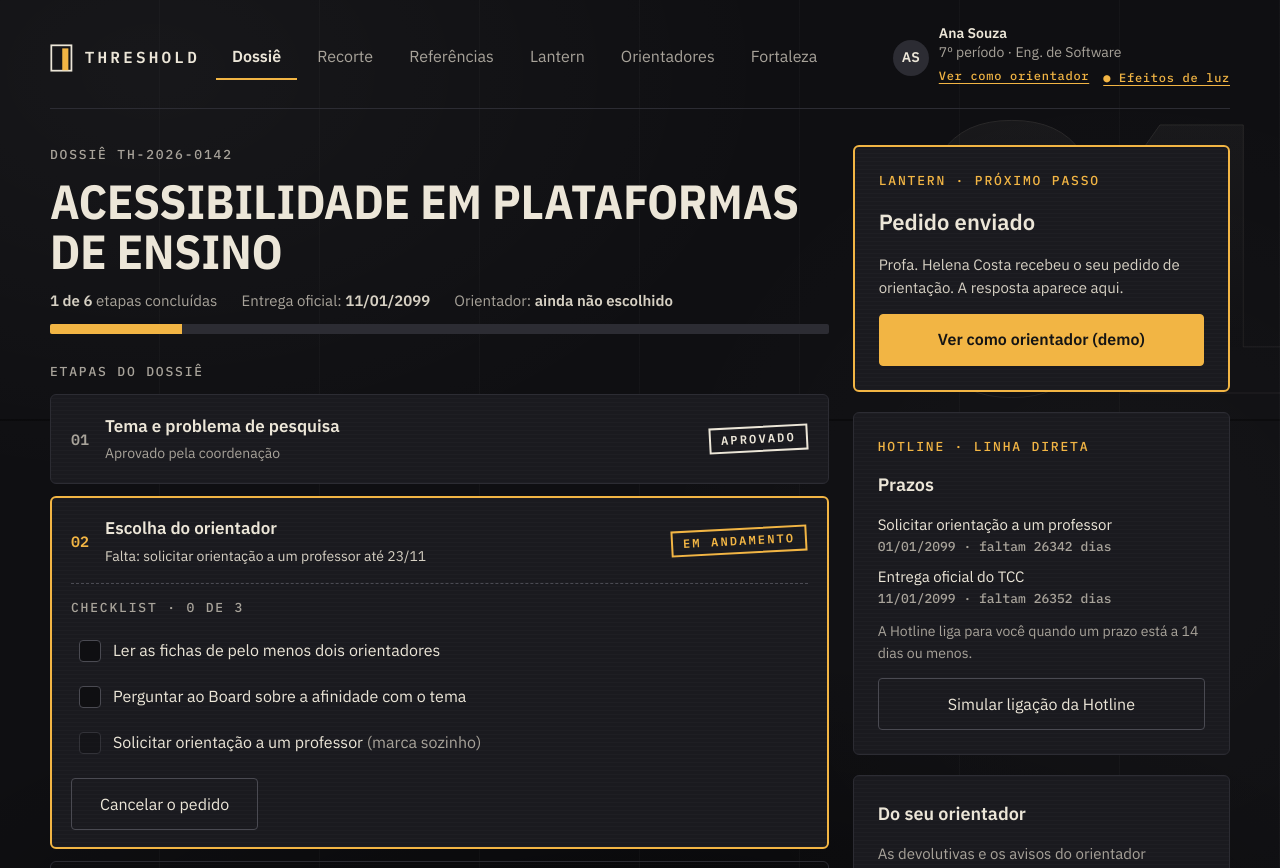
Dossiê › com pedido pendente, mostra a espera, o atalho para o painel e deixa cancelar
Expected: the heading "Pedido enviado" is shown, [879,207,1035,236]
Click the button "Cancelar o pedido": (165, 804) [71,778,258,830]
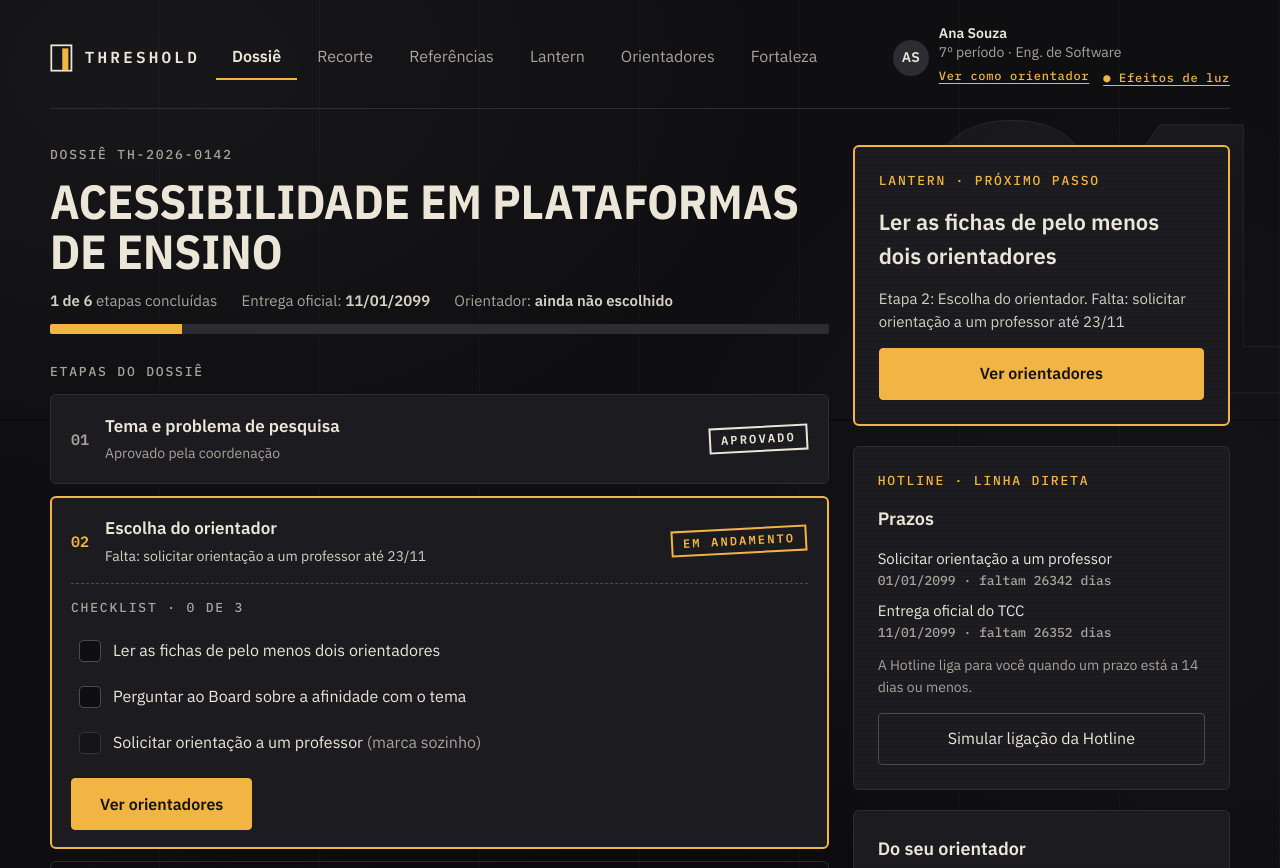
Result: the link "Ver orientadores" below "(marca sozinho)" is shown at [71,778,252,830]
